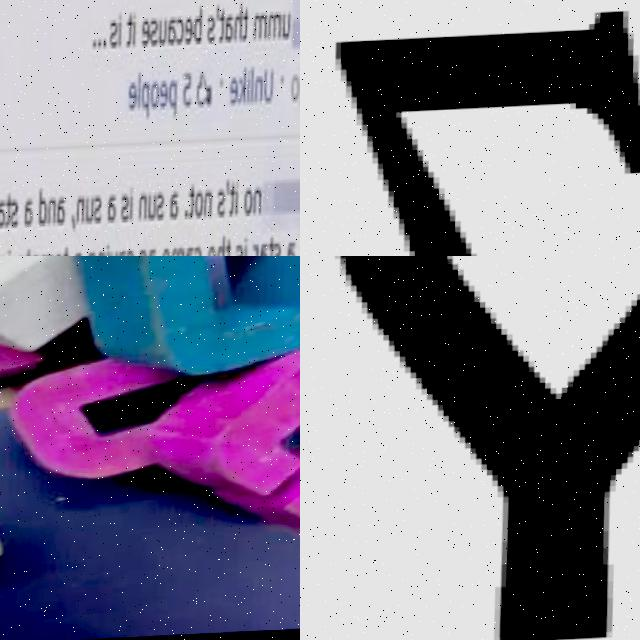1: (185, 72, 197, 110)
7: (310, 0, 640, 256)
A: (226, 13, 239, 45), (111, 191, 123, 224), (169, 16, 181, 48), (28, 198, 40, 230), (61, 197, 72, 226), (0, 200, 11, 229), (174, 192, 185, 221), (263, 241, 275, 256), (291, 238, 300, 256), (189, 246, 201, 256), (152, 248, 164, 256), (122, 249, 134, 256), (78, 250, 91, 256)
B: (196, 7, 206, 45)
C: (178, 17, 188, 46)
D: (42, 256, 300, 401), (42, 187, 54, 225)
E: (143, 17, 154, 49), (186, 16, 197, 45), (163, 79, 174, 108), (131, 81, 142, 110), (232, 79, 243, 107), (212, 245, 223, 256), (166, 249, 178, 256)
G: (137, 346, 300, 556)
H: (0, 256, 169, 361), (236, 3, 247, 41), (221, 237, 232, 256)
I: (134, 10, 140, 46), (249, 69, 255, 105), (121, 13, 126, 49), (239, 183, 244, 219), (135, 187, 139, 219), (248, 239, 255, 256), (110, 243, 116, 256), (12, 248, 17, 256)
K: (241, 68, 251, 107)
L: (140, 71, 147, 109), (254, 66, 259, 104)
M: (270, 12, 286, 41), (256, 13, 272, 42), (176, 248, 192, 256)
N: (257, 188, 268, 217), (208, 190, 219, 219), (143, 193, 154, 222), (80, 198, 92, 224), (257, 78, 268, 104), (52, 197, 63, 223), (101, 250, 112, 256)
O: (199, 190, 210, 220), (153, 82, 164, 111), (248, 188, 259, 217), (293, 73, 300, 102)
P: (171, 81, 183, 119), (144, 83, 155, 119)
R: (0, 200, 3, 229), (257, 246, 265, 256)
S: (15, 198, 26, 230), (221, 190, 233, 219), (124, 194, 136, 223), (97, 195, 109, 224), (208, 15, 219, 45), (151, 18, 162, 47), (111, 20, 122, 49), (160, 194, 171, 220), (279, 242, 289, 256), (240, 244, 250, 256), (198, 246, 209, 256), (143, 249, 154, 256), (131, 249, 142, 256)
T: (245, 7, 253, 44), (128, 13, 137, 45), (9, 193, 17, 229), (221, 6, 228, 42), (234, 184, 241, 220), (194, 185, 201, 221), (273, 238, 281, 256), (229, 240, 238, 256), (67, 243, 76, 256), (29, 249, 38, 256)
U: (267, 68, 278, 104), (160, 17, 171, 47), (284, 12, 295, 41), (89, 197, 101, 223), (152, 194, 163, 221)
Y: (307, 256, 640, 640)
Z: (0, 348, 67, 639)
